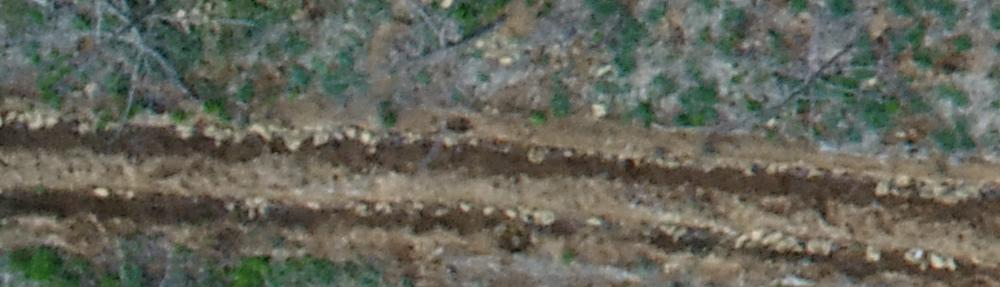apple: (719, 10, 901, 172), (32, 10, 263, 125)
